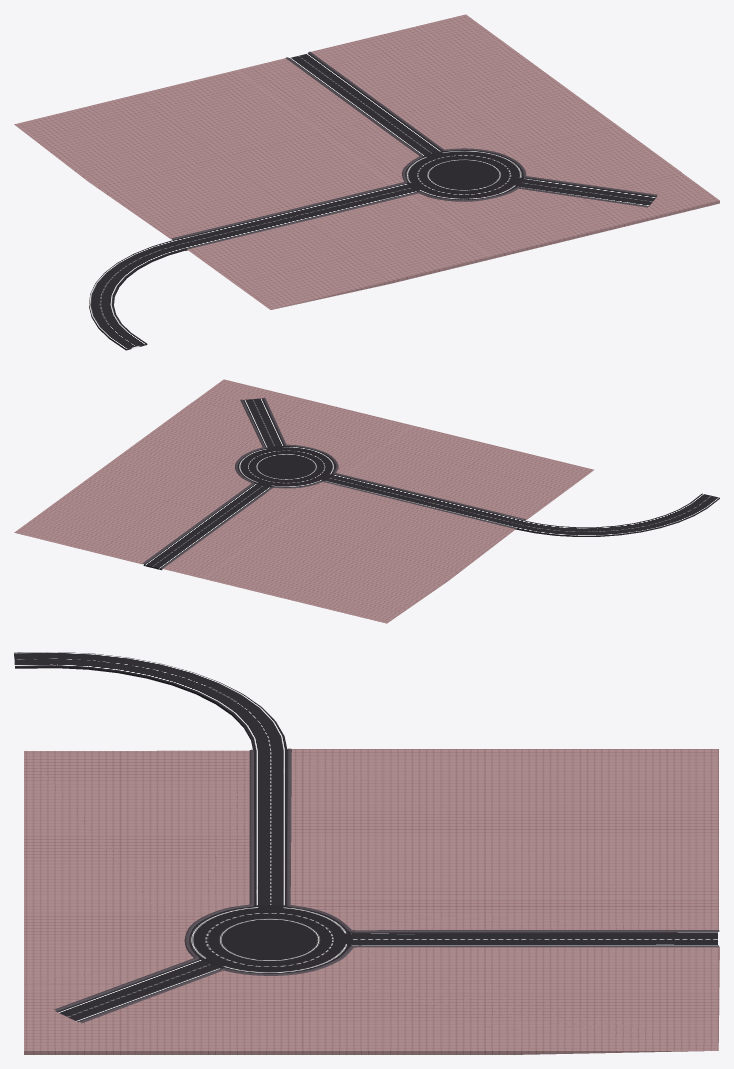
File: mapa1-suelo-SOLERRORES2.fbx
3 renders of one model, top to bottom at view 1: azimuth 30°, elevation 25°; view 2: azimuth 150°, elevation 25°; view 3: azimuth 270°, elevation 25°, orthographic. The views are drawn at different scales.
Parts seen in each view (by area): view 1: Cube.007, Cylinder, Cube, Cube.002, Cube.001, Cube.003, BezierCurve.001, BezierCurve, BezierCurve.002; view 2: Cube.007, Cylinder, Cube, Cube.002, Cube.001, Cube.003, BezierCurve.001, BezierCurve, BezierCurve.002; view 3: Cube.007, Cylinder, Cube, Cube.002, Cube.001, Cube.003, BezierCurve.001, BezierCurve.002, BezierCurve.
Boxes of the visible parts, x1,y1,x2,y2 form: Cube.007: (14, 14, 719, 309); Cylinder: (405, 150, 524, 199); Cube: (89, 240, 185, 350); Cube.002: (173, 183, 416, 250); Cube.001: (289, 53, 441, 155); Cube.003: (518, 178, 656, 205); BezierCurve.001: (171, 57, 422, 239); BezierCurve: (187, 187, 648, 249); BezierCurve.002: (308, 51, 657, 196); Cube.007: (14, 379, 594, 623); Cylinder: (237, 446, 335, 487); Cube: (516, 493, 719, 536); Cube.002: (325, 474, 525, 529); Cube.001: (143, 483, 270, 570); Cube.003: (243, 398, 284, 447); BezierCurve.001: (161, 480, 516, 568); BezierCurve: (263, 397, 525, 520); BezierCurve.002: (142, 399, 265, 564); Cube.007: (24, 749, 719, 1054); Cylinder: (189, 905, 352, 973); Cube: (14, 652, 287, 750); Cube.002: (254, 750, 287, 905); Cube.001: (351, 932, 717, 945); Cube.003: (57, 959, 220, 1021); BezierCurve.001: (286, 748, 719, 932); BezierCurve.002: (78, 945, 718, 1023); BezierCurve: (53, 749, 254, 1011).
Bounding box in the file's own units: 17719 × 108 × 13240.
